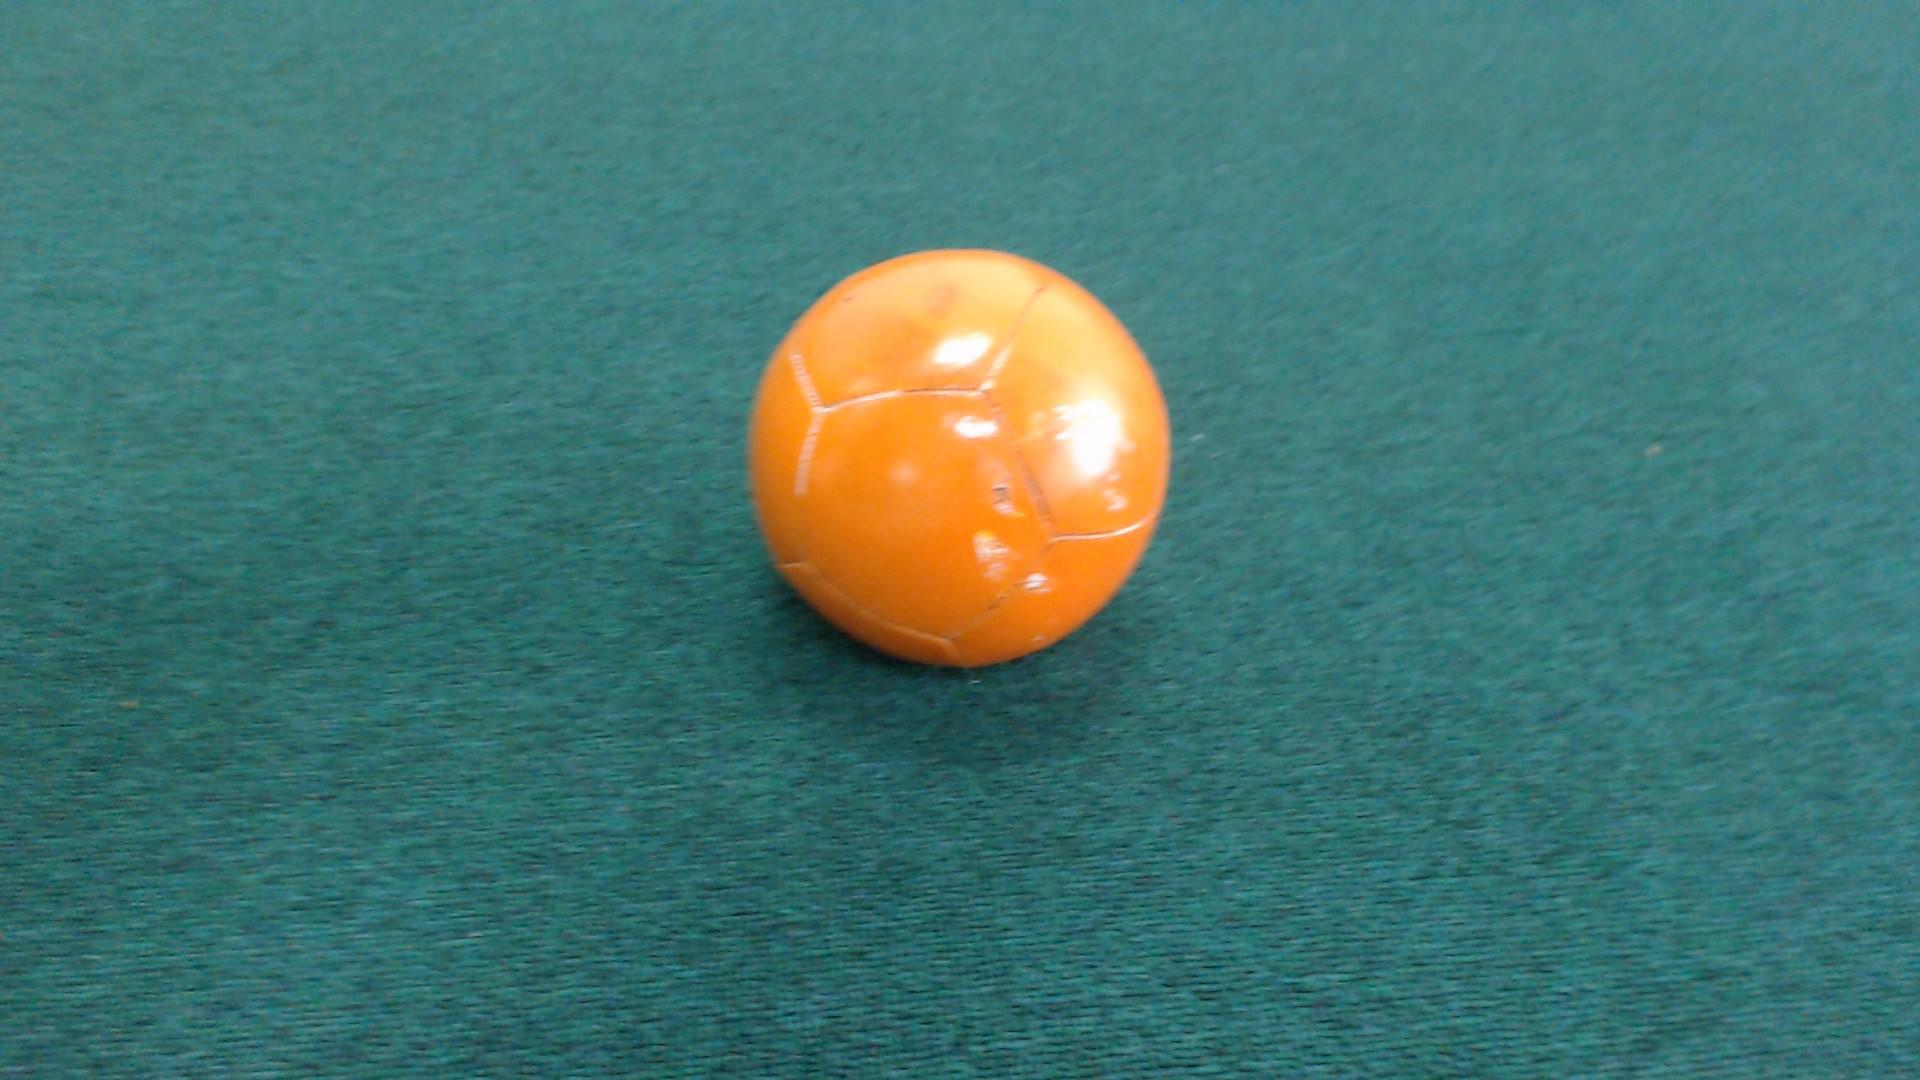bola: (719, 214, 1203, 699)
